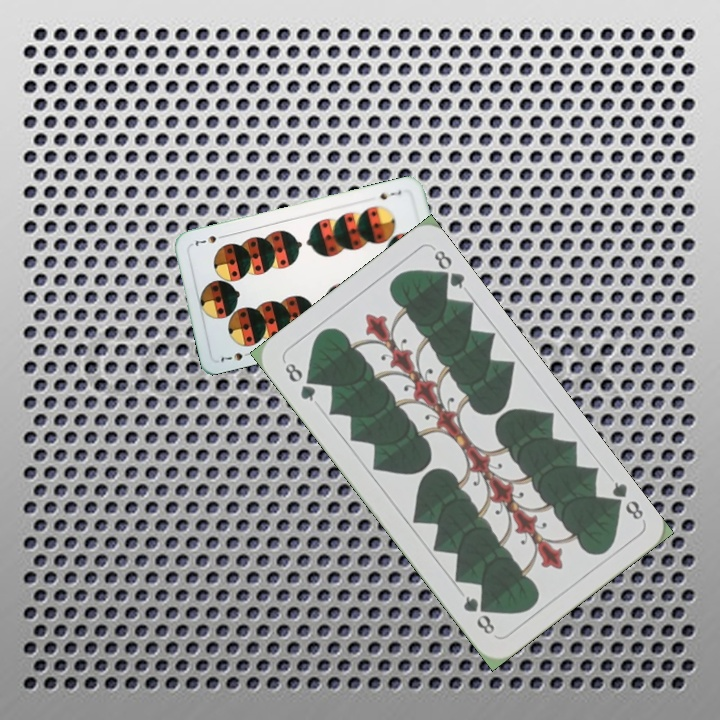G8: (603, 477, 646, 523), (280, 358, 318, 405)
S7: (217, 348, 255, 365), (376, 186, 404, 202)
